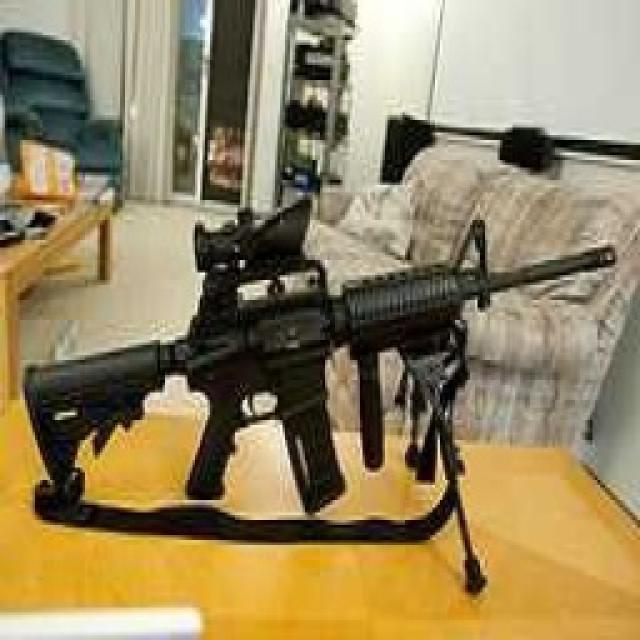knife: (8, 187, 634, 565)
